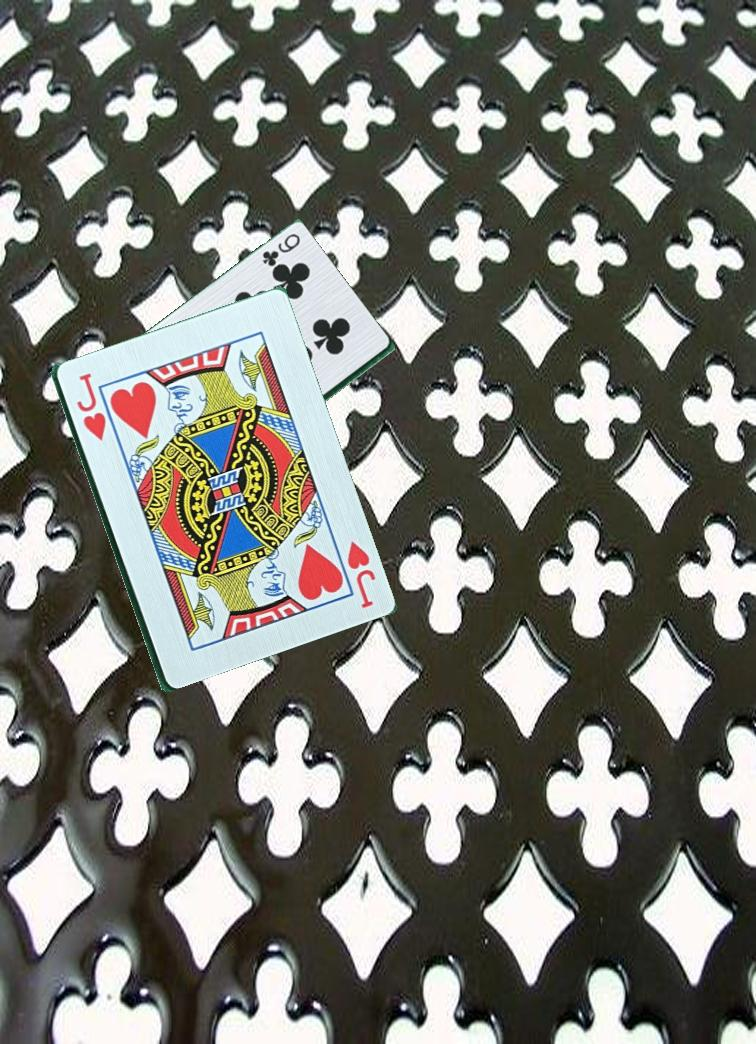9c: (256, 230, 303, 274)
jh: (72, 369, 108, 443), (342, 537, 378, 611)
